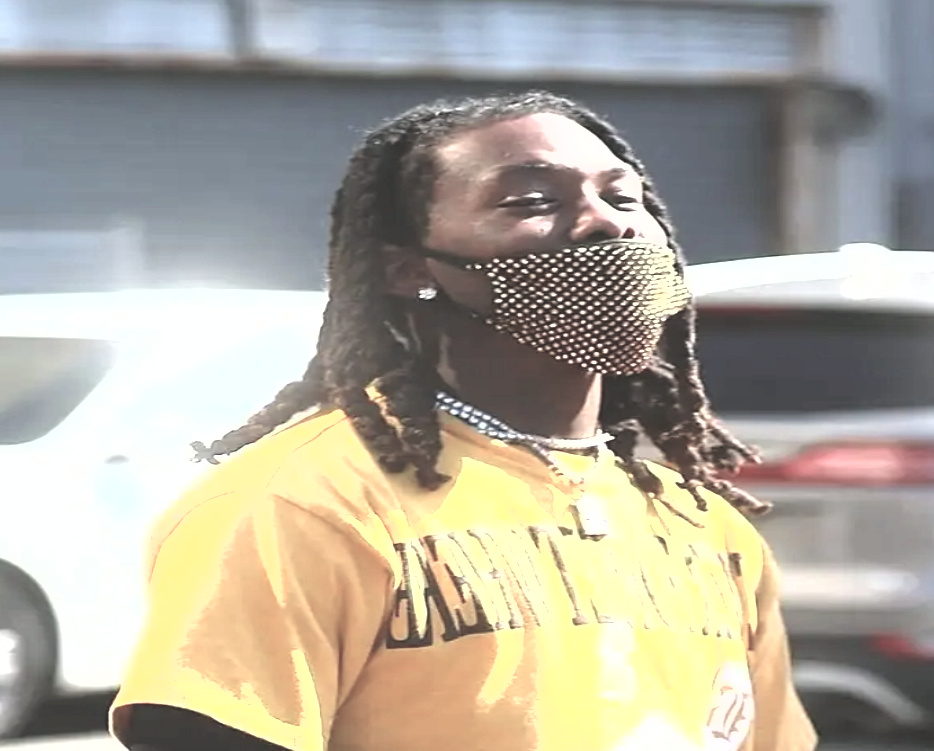mask_weared_incorrect: (334, 90, 698, 377)
